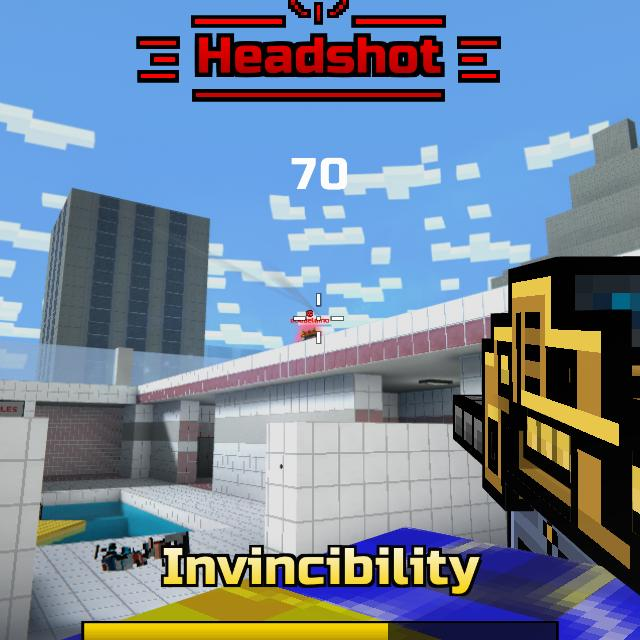Enemy: (300, 328, 322, 344)
